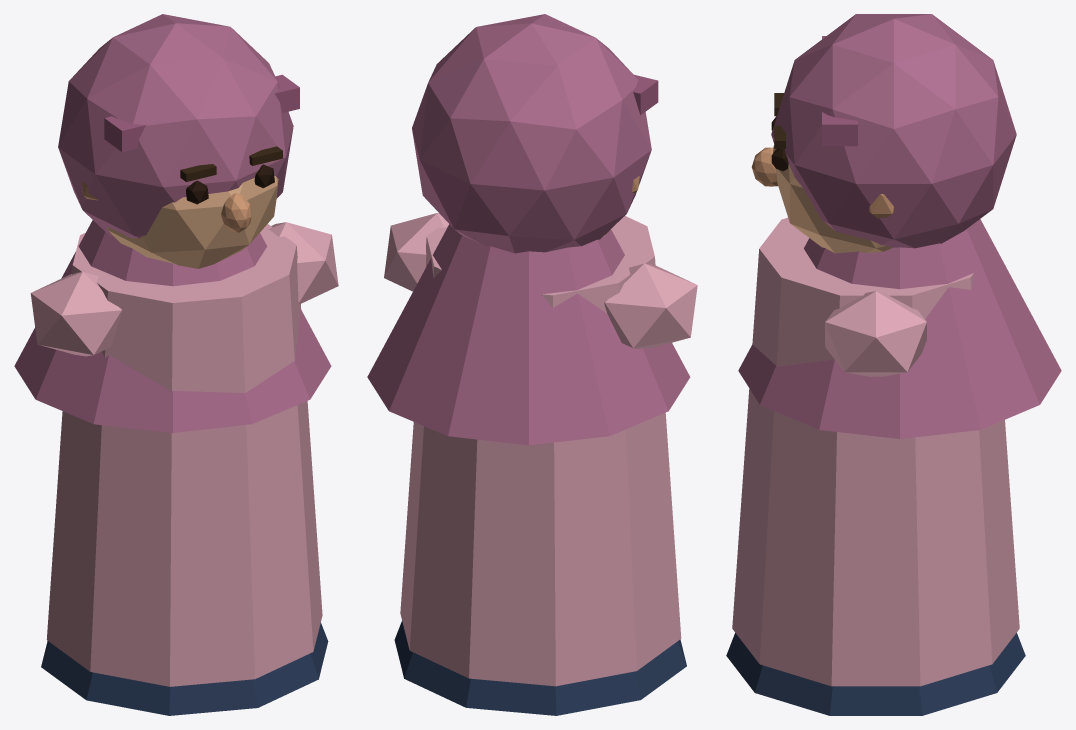
The model's file is insan_k0s_govde.glb.
The picture shows the model from 3 angles, left to right: view 1: azimuth 30°, elevation 25°; view 2: azimuth 150°, elevation 25°; view 3: azimuth 270°, elevation 25°; orthographic projection.
Parts seen in each view (by area): view 1: Cone; view 2: Cone; view 3: Cone.
Part boxes in pixels (left/top/right/bottom): Cone: left=14, top=14, right=338, bottom=715; Cone: left=367, top=14, right=697, bottom=715; Cone: left=726, top=14, right=1061, bottom=715.
Bounding box in the file's own units: 0.1158 × 0.2346 × 0.112.
